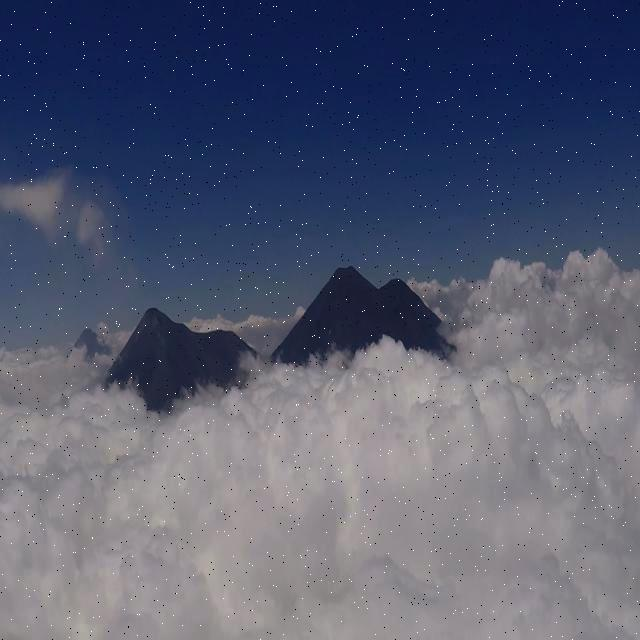Summit: (124, 302, 192, 348)
